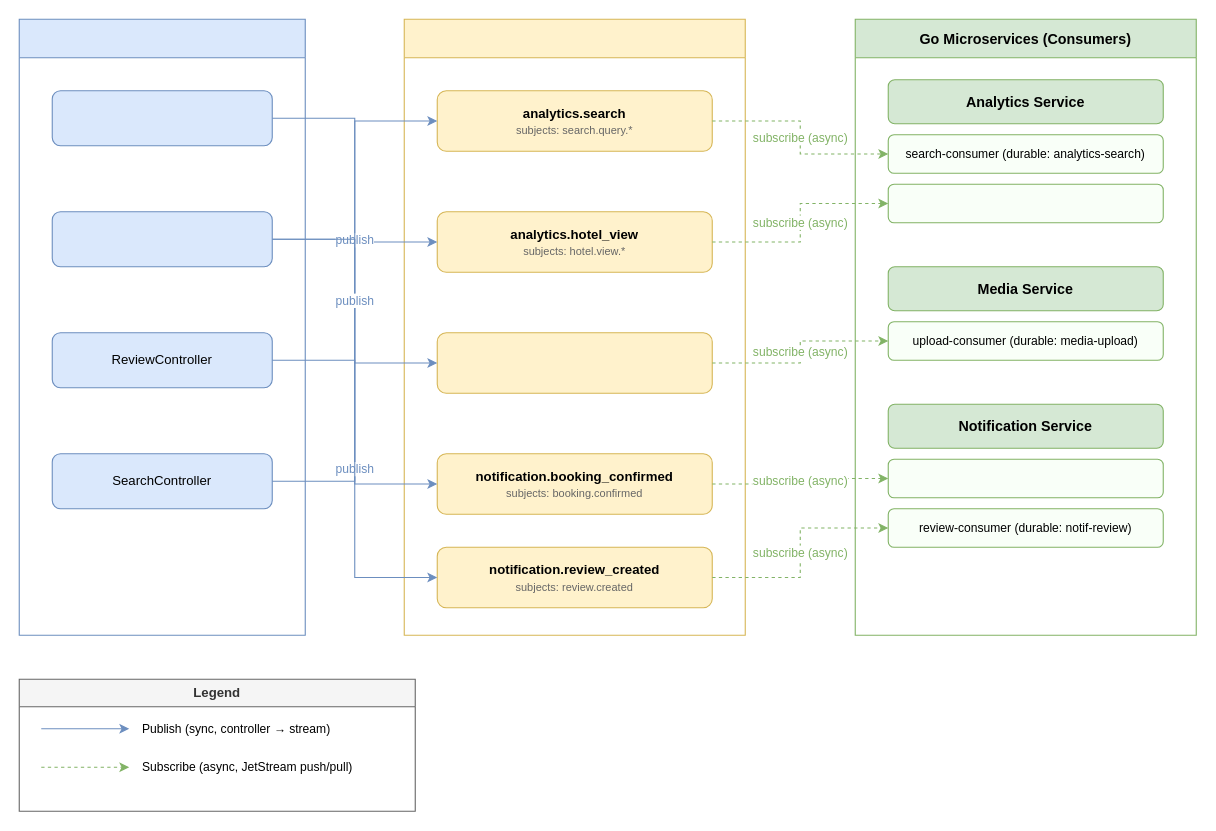
The diagram is 1216 pixels wide and 831 high, and some of its shapes have lost their labels. Here are the shapes that lost their labels. From the top down, the box of each, then its label:
(51, 90, 272, 146): BookingController
(887, 183, 1163, 223): hotel-view-consumer (durable: analytics-hotel)
(51, 211, 272, 267): HotelController
(18, 18, 305, 635): Node.js Monolith (Publisher)
(403, 18, 745, 635): NATS JetStream Server
(436, 332, 712, 393): media.image_upload subjects: media.upload.*
(887, 458, 1163, 498): booking-consumer (durable: notif-booking)
